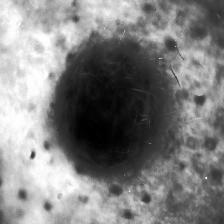Benign Marking or Mole: (55, 50, 163, 166)
